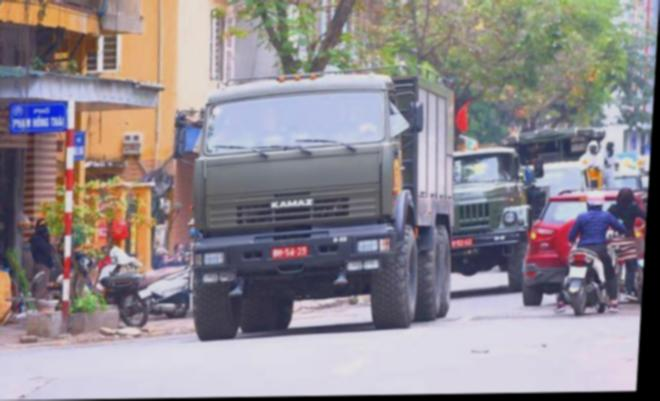License_Plate: (266, 240, 309, 262), (450, 235, 478, 251)
